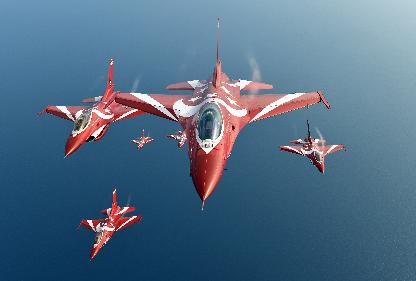F14: (102, 18, 332, 211), (37, 58, 147, 159), (76, 187, 142, 261), (278, 119, 346, 174), (130, 129, 154, 150), (166, 129, 186, 148)
